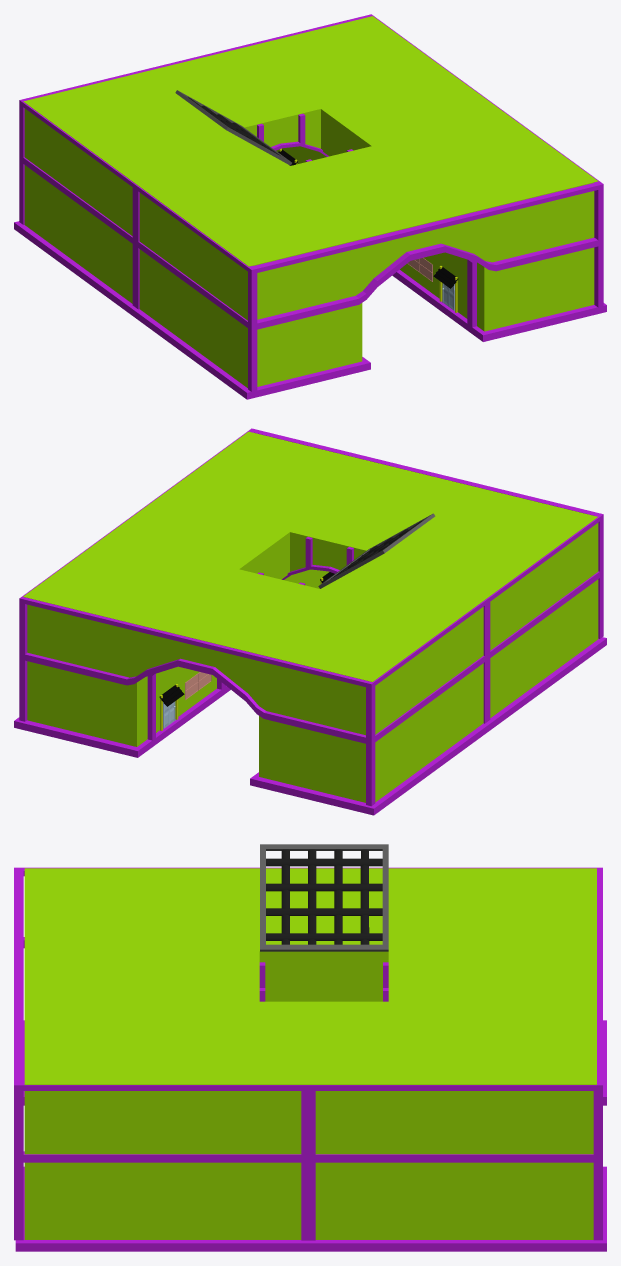
File: building 5_Finished_.fbx
The picture shows the model from 3 angles, top to bottom: view 1: azimuth 30°, elevation 25°; view 2: azimuth 150°, elevation 25°; view 3: azimuth 270°, elevation 25°; orthographic projection. The views are drawn at different scales.
Visible parts, largest first — view 1: Building main, Cube.001, Cube, wooden log.001, Cube.002; view 2: Building main, Cube.001, Cube, wooden log.001, Cube.002; view 3: Building main, Cube.001, Cube, Cylinder, Cube.002.
Boxes of the visible parts, <box> form: Building main: <box>23,16,598,387</box>; Cube.001: <box>19,14,603,391</box>; Cube: <box>14,113,606,399</box>; wooden log.001: <box>278,148,458,312</box>; Cube.002: <box>175,90,291,165</box>; Building main: <box>23,431,598,802</box>; Cube.001: <box>19,428,603,806</box>; Cube: <box>14,537,606,815</box>; wooden log.001: <box>159,572,334,730</box>; Cube.002: <box>318,513,435,588</box>; Building main: <box>24,868,596,1239</box>; Cube.001: <box>14,867,602,1240</box>; Cube: <box>15,962,606,1251</box>; Cylinder: <box>266,849,382,944</box>; Cube.002: <box>260,844,388,951</box>.
Size of the model in its own units: 1820 by 886 by 2047.
